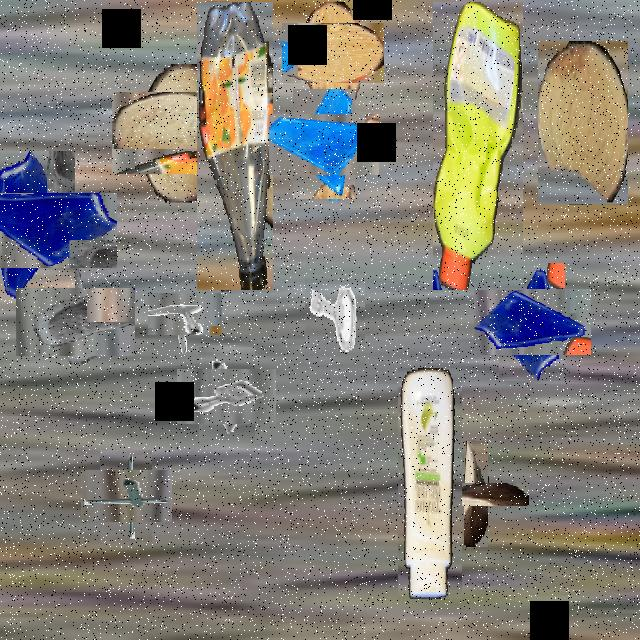glass: (0, 172, 96, 289), (28, 275, 122, 369), (486, 276, 578, 368), (281, 101, 367, 187)
metal: (305, 263, 365, 370), (188, 358, 266, 435), (90, 460, 162, 532), (156, 285, 214, 344)
plastic: (433, 2, 523, 290), (197, 2, 273, 290), (398, 368, 462, 599)
wood: (538, 41, 628, 204), (126, 78, 236, 189), (292, 13, 374, 94), (444, 461, 508, 527)
